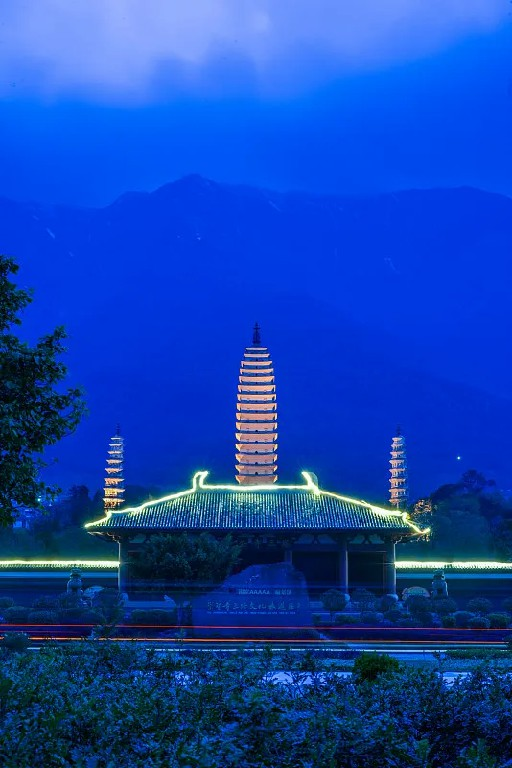ThreePagoda: (235, 323, 277, 483)
